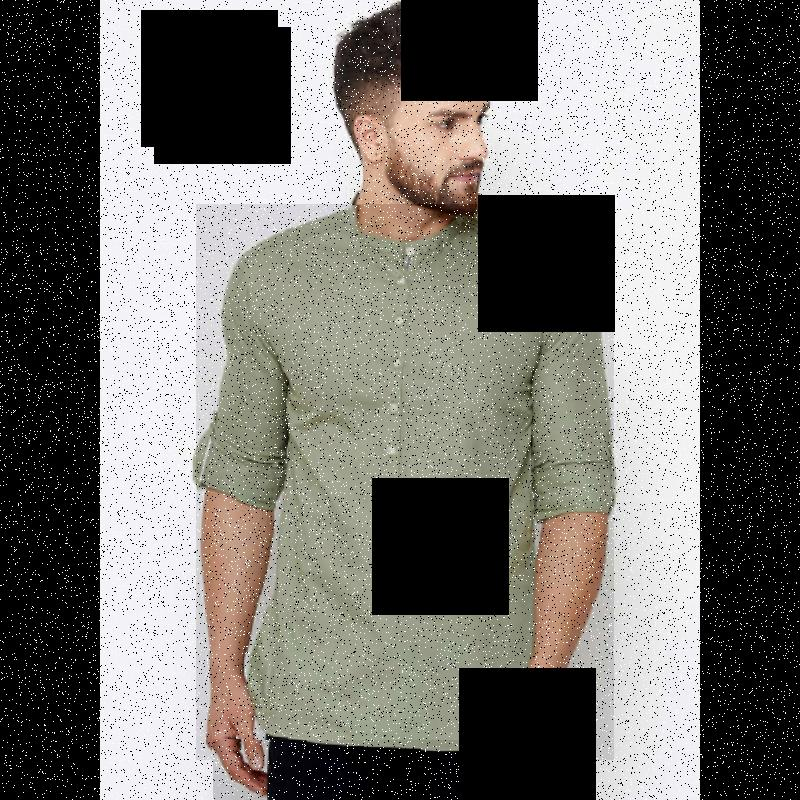Jeans: (213, 740, 574, 800)
Shirt: (196, 204, 614, 760)
